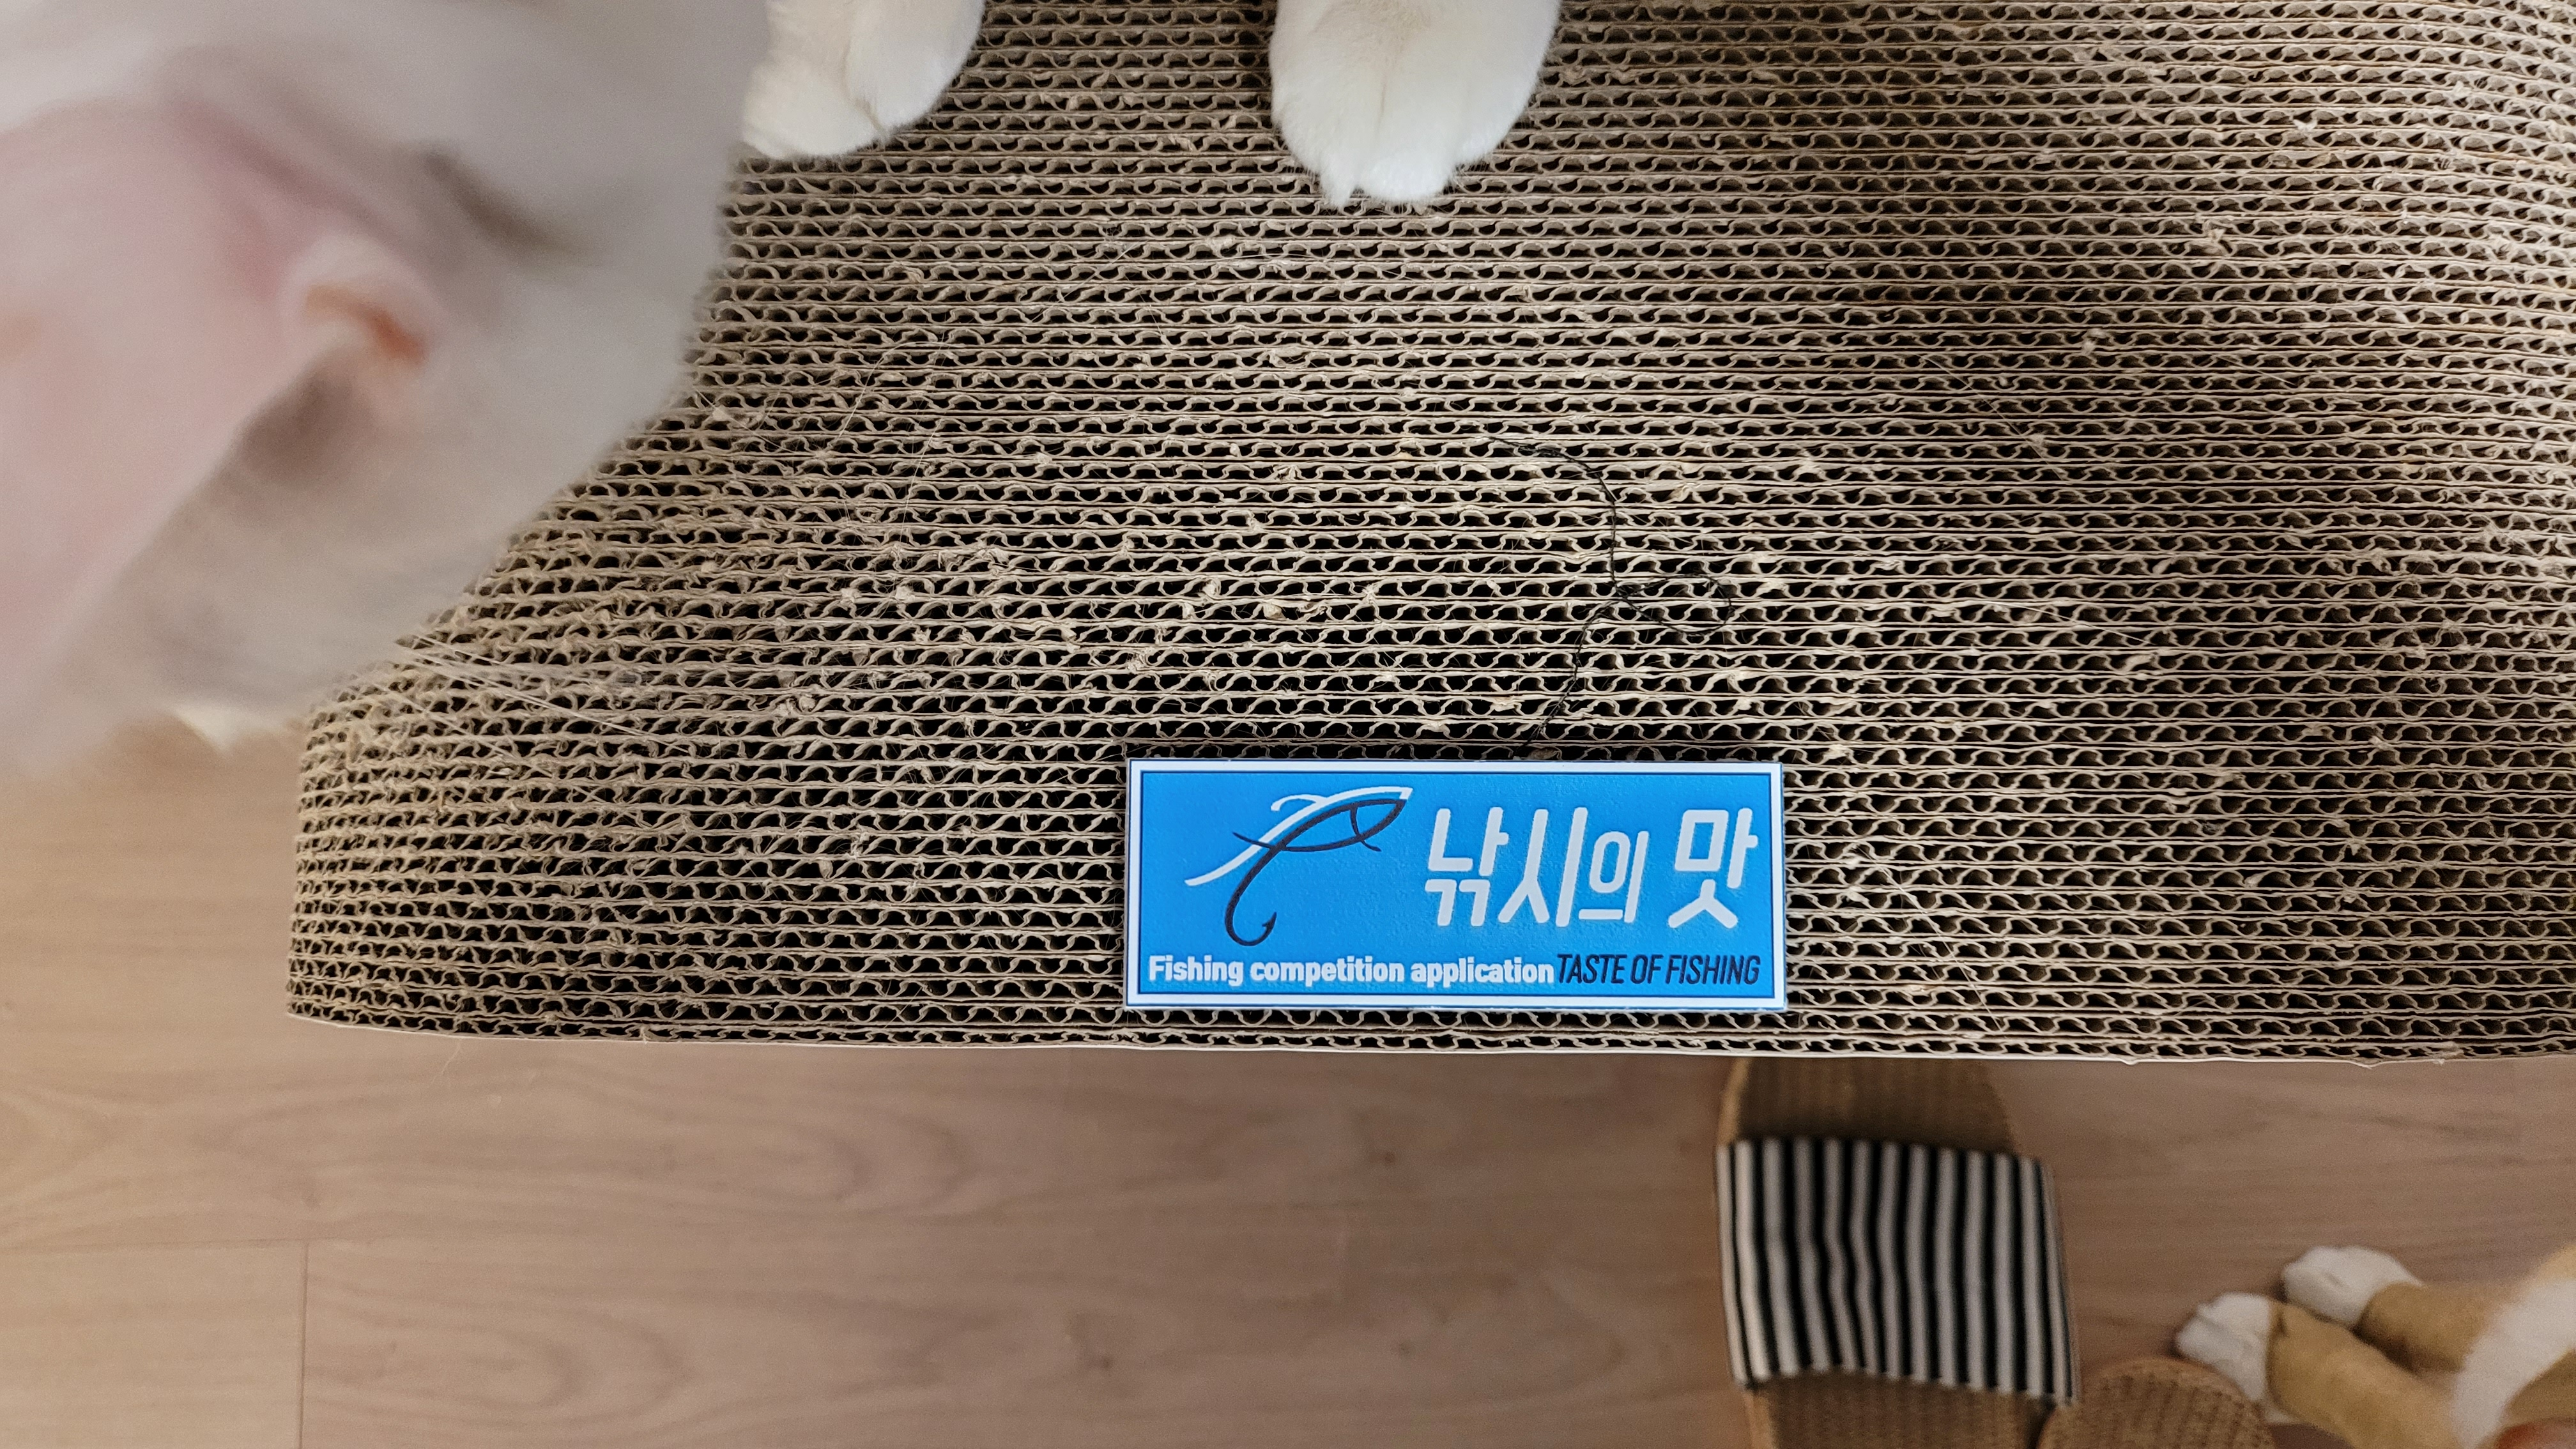tag: (1122, 757, 1783, 1016)
